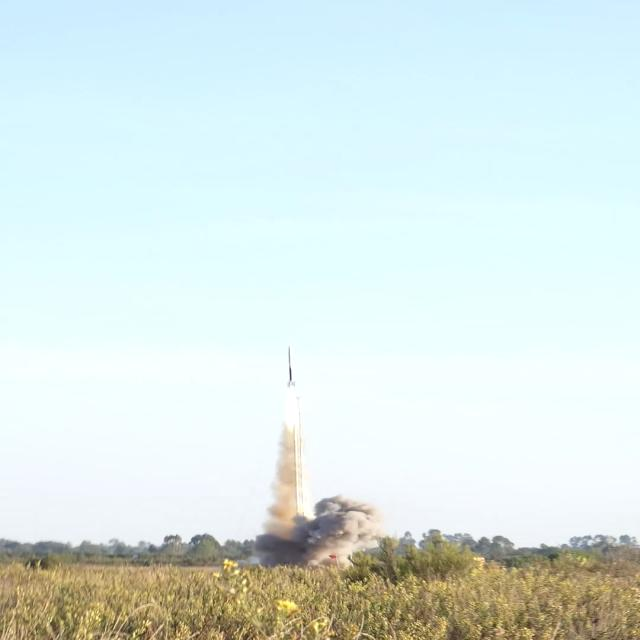Rocket: (287, 344, 296, 388)
